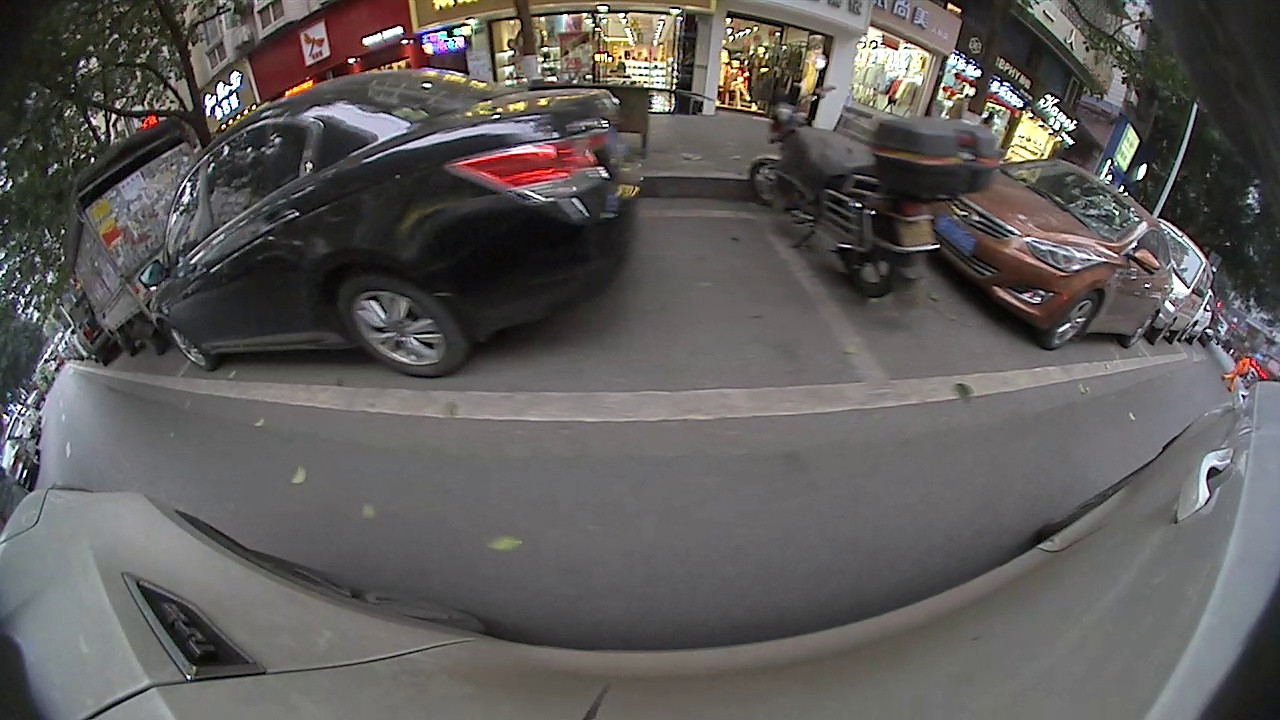car: (136, 66, 643, 380), (933, 152, 1177, 353), (1148, 211, 1216, 346)
front: (1053, 284, 1100, 360), (751, 152, 799, 213), (163, 326, 213, 373)
rear: (332, 276, 470, 378), (841, 231, 900, 307)
rider: (733, 68, 1003, 306)
truck: (61, 109, 201, 360)
